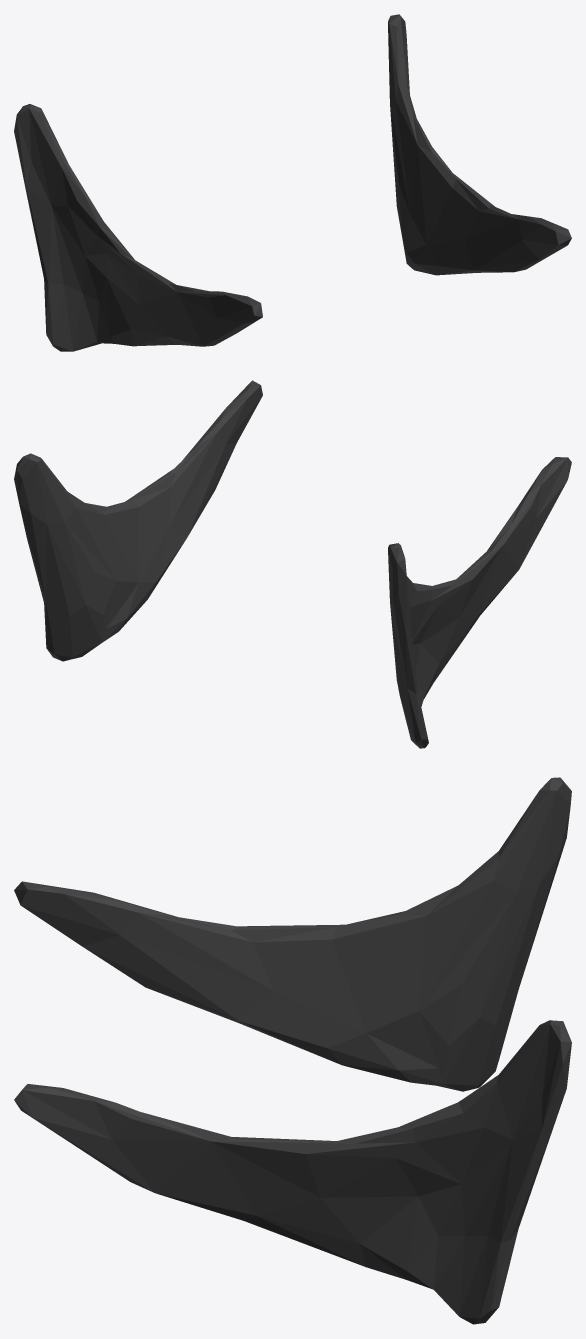
File: details_inguinal_fold.glb
The picture shows the model from 3 angles, top to bottom: view 1: azimuth 30°, elevation 25°; view 2: azimuth 150°, elevation 25°; view 3: azimuth 270°, elevation 25°; orthographic projection. The views are drawn at different scales.
Visible parts, largest first — view 1: details_inguinal_fold; view 2: details_inguinal_fold; view 3: details_inguinal_fold.
Part boxes in pixels (bbox=[...]): details_inguinal_fold: bbox=[14, 14, 571, 351]; details_inguinal_fold: bbox=[14, 380, 571, 748]; details_inguinal_fold: bbox=[14, 777, 571, 1324].
Bounding box in the file's own units: 0.00407 × 0.00224 × 0.0037.
Materials: 1 (1 with a texture image).
